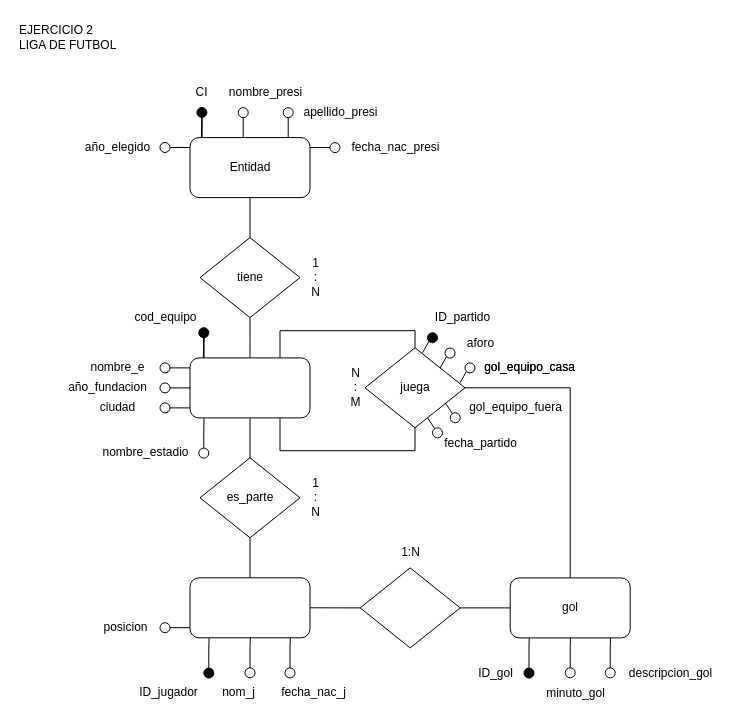
Some shapes in this 742 by 725 pixel diagram are drawn without their labels. Here are the shapes that lost their labels. From the top down, the box of each, then its label:
(189, 357, 310, 418): equipo
(189, 577, 310, 638): jugador
(359, 567, 460, 648): marca
